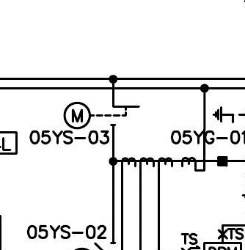115_1way_ds_w_motor: (62, 102, 141, 130)
115_gs: (211, 105, 241, 124)
